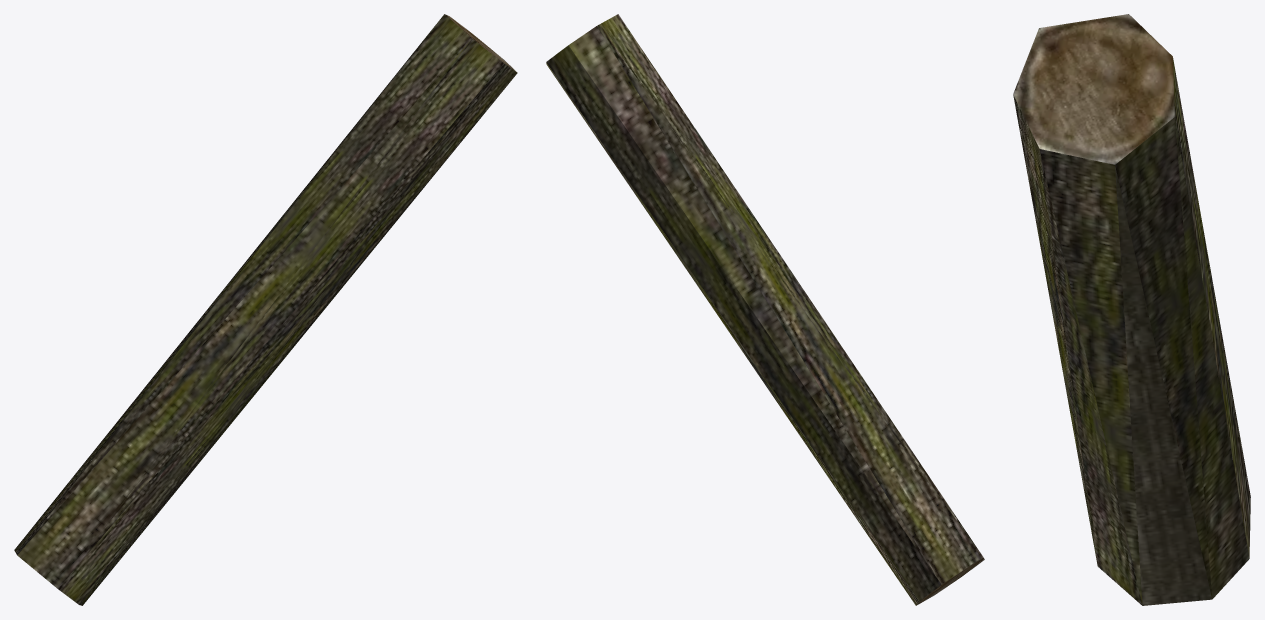
The model's file is BELA.glb.
The picture shows the model from 3 angles, left to right: view 1: azimuth 30°, elevation 25°; view 2: azimuth 150°, elevation 25°; view 3: azimuth 270°, elevation 25°; orthographic projection. The views are drawn at different scales.
Visible parts, largest first — view 1: BELA; view 2: BELA; view 3: BELA.
Boxes of the visible parts, x1,y1,x2,y2 form: BELA: (14,14,517,605); BELA: (546,14,984,605); BELA: (1013,14,1250,605).
Bounding box in the file's own units: 1.29 × 1.32 × 0.316.
Materials: 2 (2 with a texture image).
